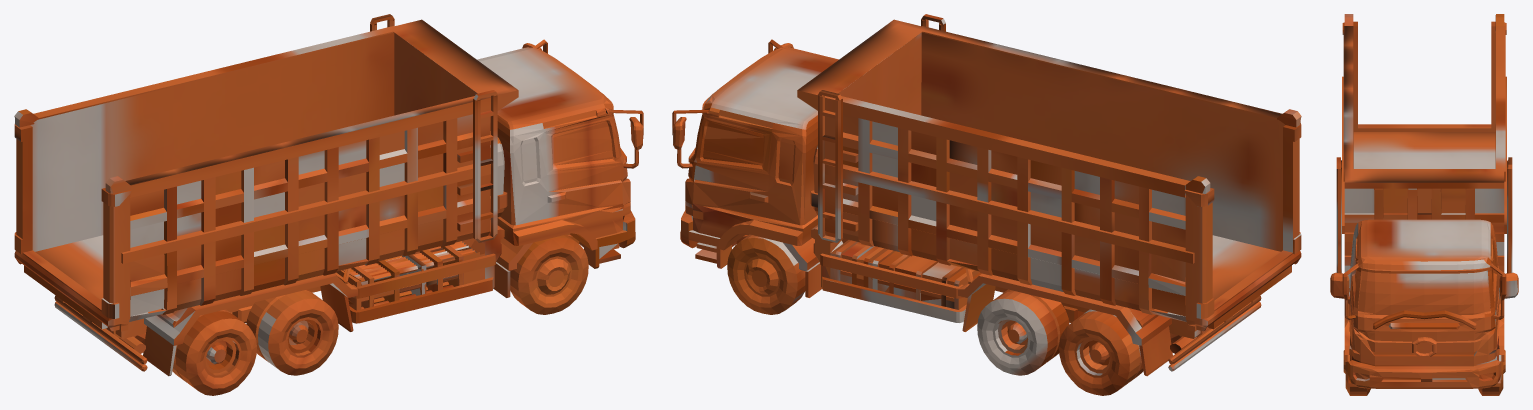
The picture shows the model from 3 angles, left to right: view 1: azimuth 30°, elevation 25°; view 2: azimuth 150°, elevation 25°; view 3: azimuth 270°, elevation 25°; orthographic projection. The views are drawn at different scales.
Parts seen in each view (by area): view 1: texture_pbr_v128; view 2: texture_pbr_v128; view 3: texture_pbr_v128.
Boxes of the visible parts, bbox=[...] form: texture_pbr_v128: bbox=[14, 14, 643, 395]; texture_pbr_v128: bbox=[672, 14, 1301, 395]; texture_pbr_v128: bbox=[1330, 14, 1518, 395].
Size of the model in its own units: 1.07 by 0.4612 by 0.3907.
